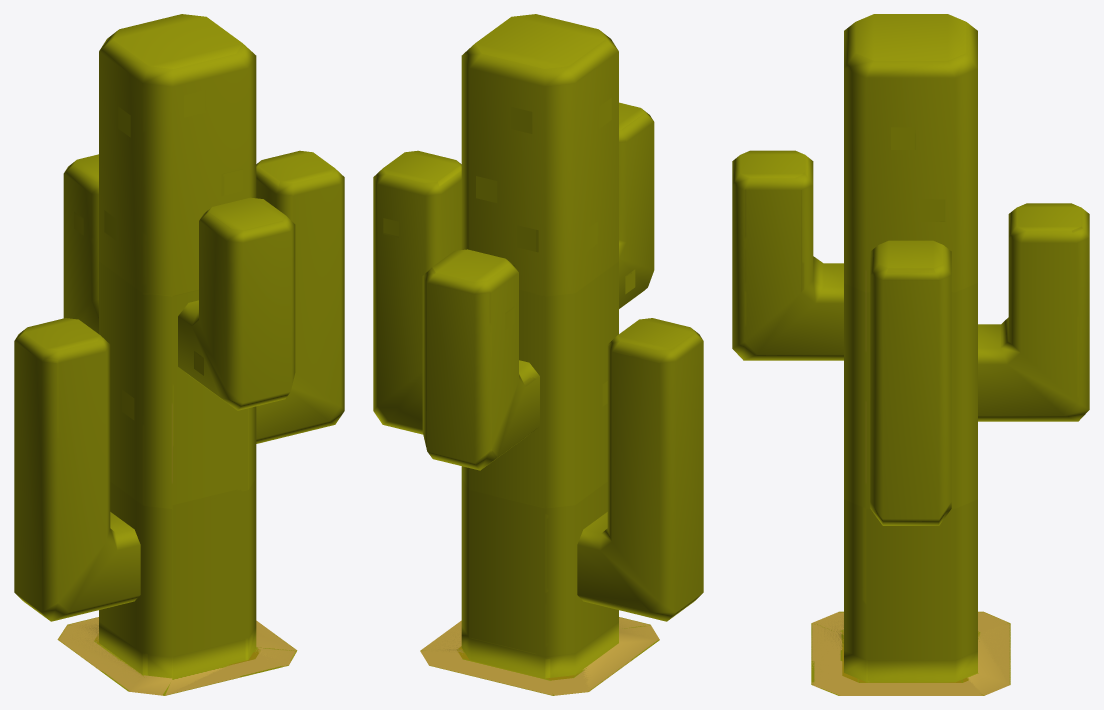
File: B_mountain1_tree00.fbx
The picture shows the model from 3 angles, left to right: view 1: azimuth 30°, elevation 25°; view 2: azimuth 150°, elevation 25°; view 3: azimuth 270°, elevation 25°; orthographic projection. The views are drawn at different scales.
Parts seen in each view (by area): view 1: model 1, model; view 2: model 1, model; view 3: model 1, model.
Boxes of the visible parts, x1,y1,x2,y2 form: model 1: [14, 14, 344, 695]; model: [57, 617, 297, 695]; model 1: [373, 14, 703, 695]; model: [420, 617, 659, 695]; model 1: [732, 14, 1089, 695]; model: [811, 611, 1010, 695].
Size of the model in its own units: 3.57 by 6.78 by 3.57.
